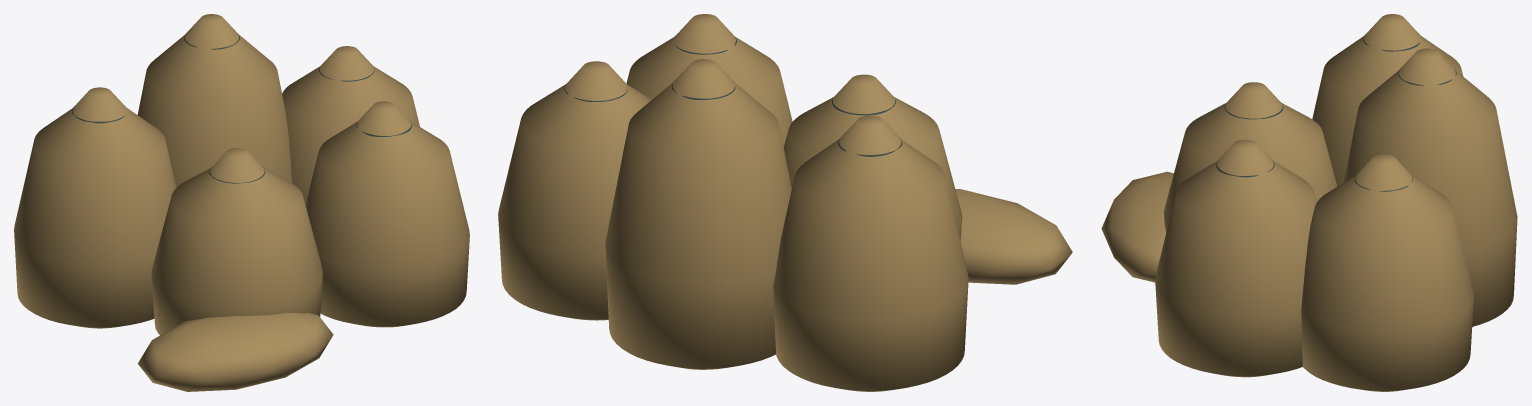
3 renders of one model, left to right at view 1: azimuth 30°, elevation 25°; view 2: azimuth 150°, elevation 25°; view 3: azimuth 270°, elevation 25°, orthographic. The views are drawn at different scales.
Visible parts, largest first — view 1: TI049 / bulging woven sack, TI049 / bulging woven sack.004, TI049 / bulging woven sack.003, TI049 / bulging woven sack.001, TI049 / flat foreground grain sack, TI049 / bulging woven sack.002; view 2: TI049 / bulging woven sack.001, TI049 / bulging woven sack, TI049 / bulging woven sack.002, TI049 / flat foreground grain sack, TI049 / bulging woven sack.004, TI049 / bulging woven sack.003; view 3: TI049 / bulging woven sack.002, TI049 / bulging woven sack.004, TI049 / bulging woven sack.001, TI049 / bulging woven sack.003, TI049 / bulging woven sack, TI049 / flat foreground grain sack.
Boxes of the visible parts, x1,y1,x2,y2 form: TI049 / bulging woven sack: (14, 87, 176, 328); TI049 / bulging woven sack.004: (305, 101, 469, 327); TI049 / bulging woven sack.003: (151, 148, 322, 335); TI049 / bulging woven sack.001: (137, 14, 291, 187); TI049 / flat foreground grain sack: (137, 313, 333, 391); TI049 / bulging woven sack.002: (282, 46, 419, 204); TI049 / bulging woven sack.001: (605, 59, 791, 369); TI049 / bulging woven sack: (773, 115, 968, 391); TI049 / bulging woven sack.002: (498, 61, 651, 320); TI049 / flat foreground grain sack: (955, 189, 1072, 284); TI049 / bulging woven sack.004: (626, 14, 792, 147); TI049 / bulging woven sack.003: (784, 74, 962, 240); TI049 / bulging woven sack.002: (1301, 154, 1473, 391); TI049 / bulging woven sack.004: (1155, 139, 1316, 377); TI049 / bulging woven sack.001: (1344, 48, 1517, 326); TI049 / bulging woven sack.003: (1164, 82, 1337, 232); TI049 / bulging woven sack: (1312, 14, 1462, 186); TI049 / flat foreground grain sack: (1101, 171, 1173, 282).
Size of the model in its own units: 2.74 by 1.64 by 2.4.
